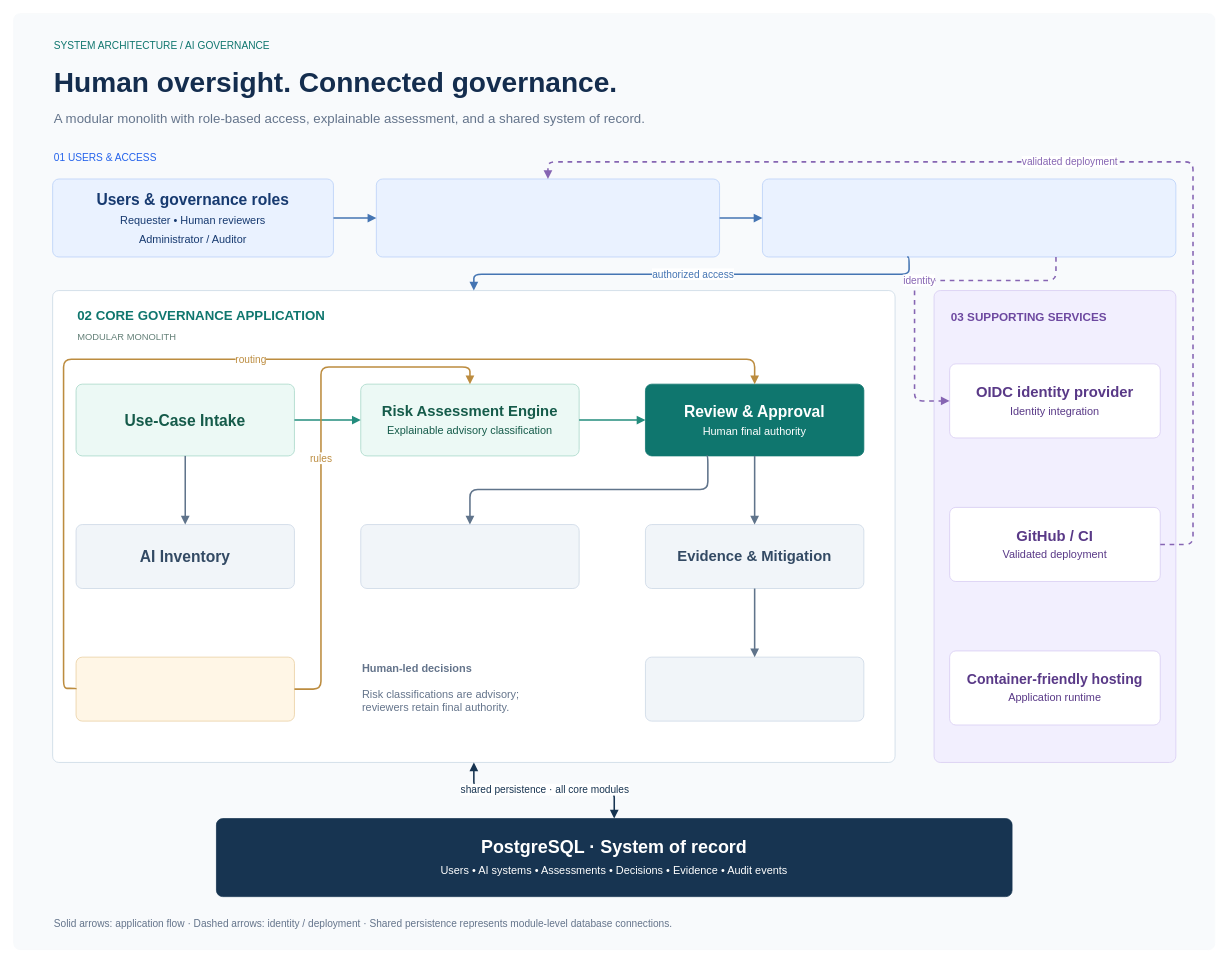
Some shapes in this 1229 by 963 pixel diagram are drawn without their labels. Each missing label, with the centre of its shape:
"Administration & Configuration" belongs at point 184,688.
"Audit History" belongs at point 469,556.
"Authentication & RBAC OIDC-compatible sign-in • Server-side authorization" belongs at point 969,217.
"Dashboard & Reporting" belongs at point 754,688.
"Responsive web interface Intake • Review queue • Dashboard" belongs at point 548,217.
